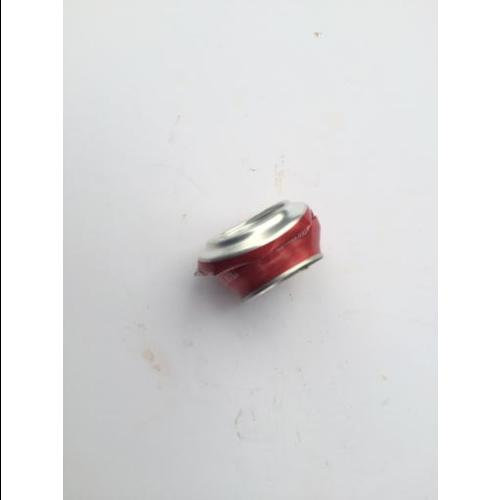metal: (199, 201, 320, 303)
